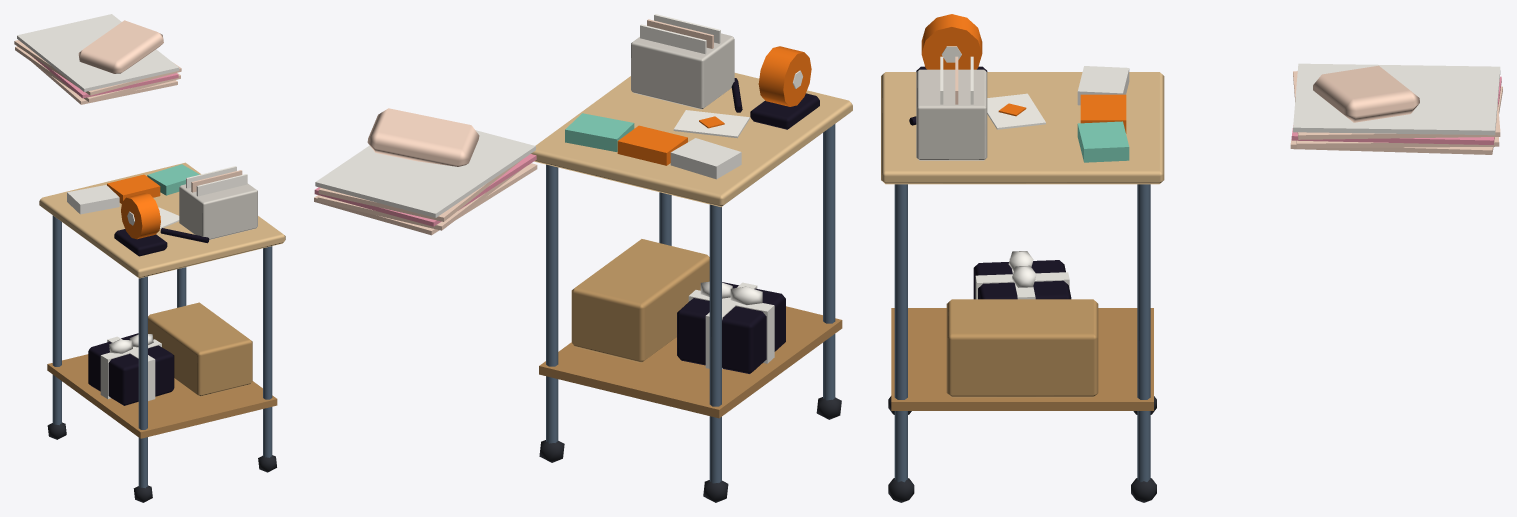
The model's file is station_processing_ausstattung_3_3.glb.
3 views of the same model, side by side, from view 1: azimuth 30°, elevation 25°; view 2: azimuth 150°, elevation 25°; view 3: azimuth 270°, elevation 25° (orthographic). The views are drawn at different scales.
Visible parts, largest first — view 1: station_processing_ausstattung_3_3; view 2: station_processing_ausstattung_3_3; view 3: station_processing_ausstattung_3_3.
Part boxes in pixels (<box>): station_processing_ausstattung_3_3: <box>14,14,285,502</box>; station_processing_ausstattung_3_3: <box>314,14,852,502</box>; station_processing_ausstattung_3_3: <box>881,14,1502,502</box>.
Bounding box in the file's own units: 0.6236 × 0.9573 × 1.23.
